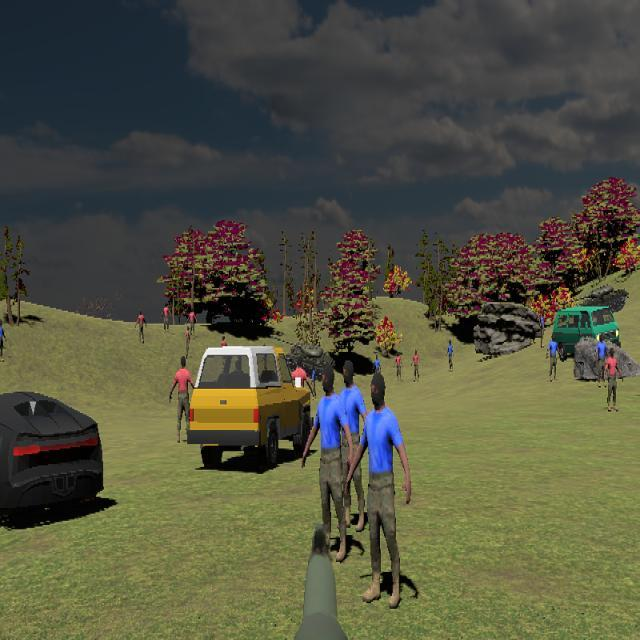Human: (344, 374, 412, 611), (302, 364, 352, 562), (330, 357, 372, 541), (169, 356, 195, 443), (604, 346, 624, 412), (594, 333, 610, 387), (546, 332, 561, 383)
Tank: (274, 337, 338, 378), (577, 283, 630, 312), (579, 283, 630, 312)
car: (189, 345, 313, 468), (0, 389, 104, 520), (552, 305, 621, 359)
